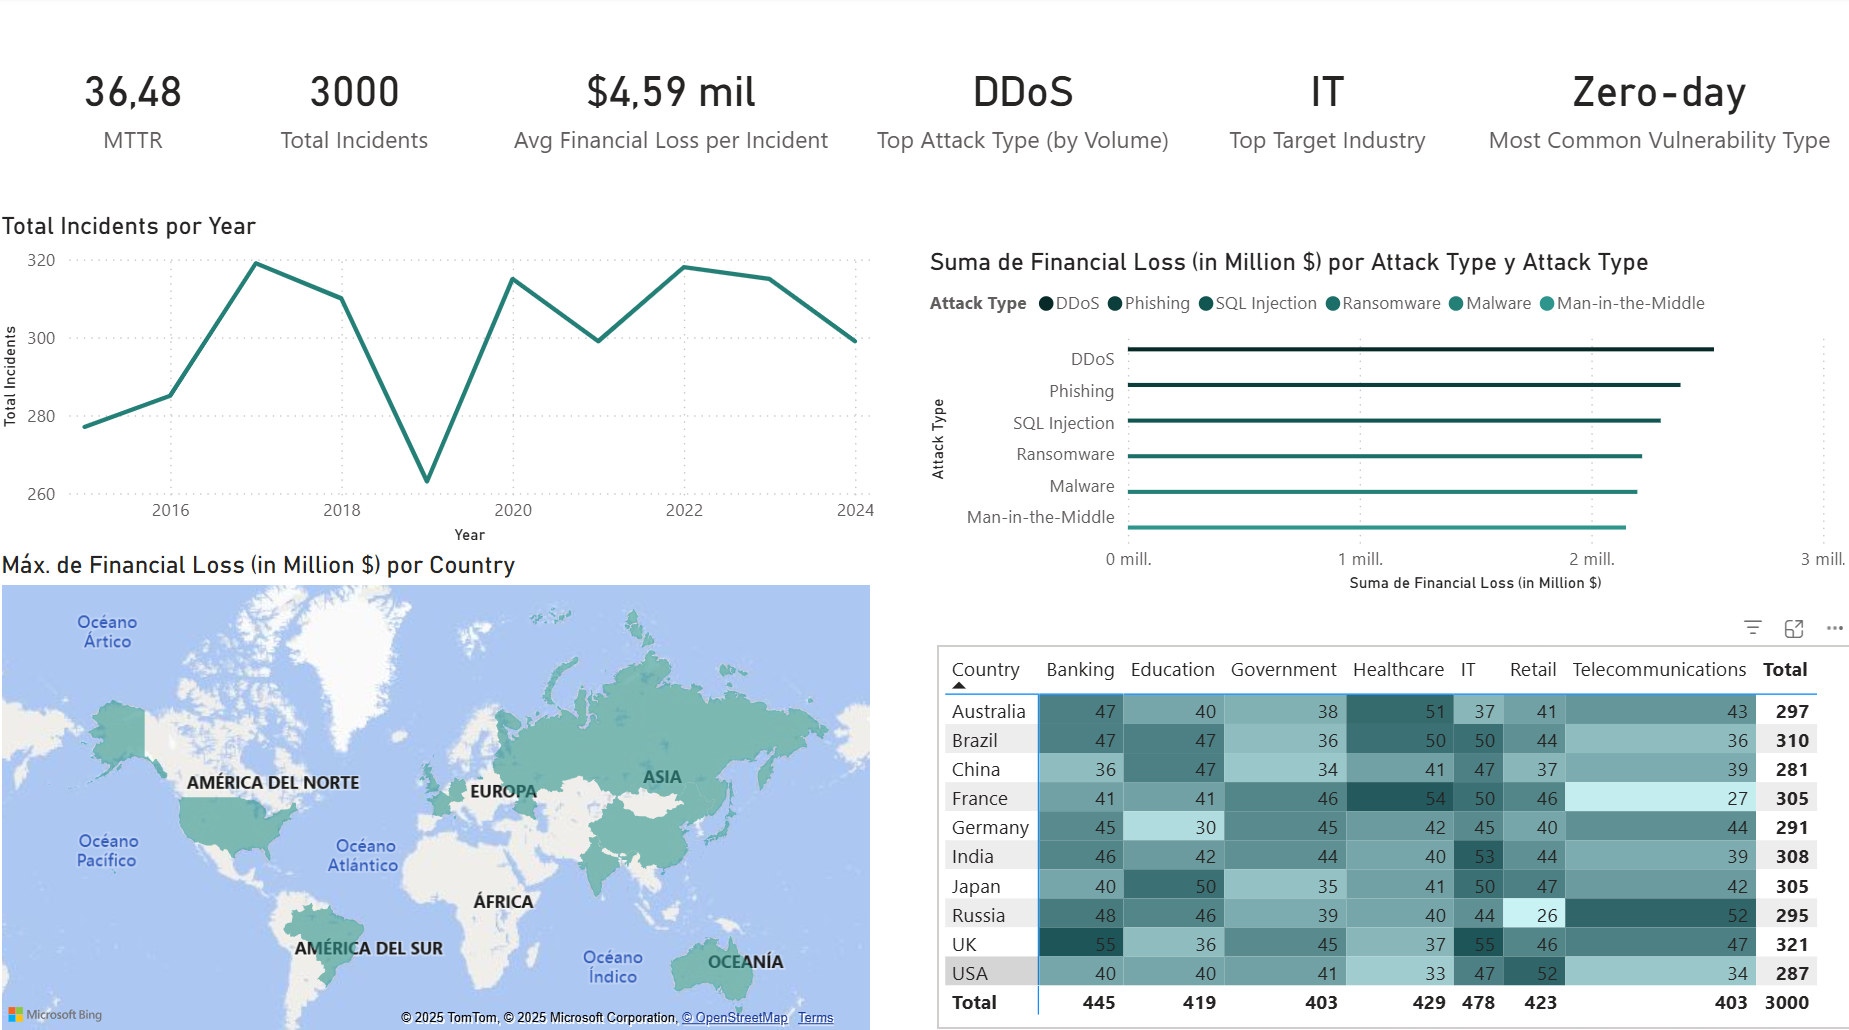

Layout of this report page (visuals, bound fields, positions):
{"tool":"powerbi","page":{"name":"KPI + Threat Landscape","canvas":[1280,720],"ordinal":0},"visuals":[{"type":"card","fields":{"Values":["Medidas.MTTR"]},"box":[0,0,190.5,147.5],"z":0},{"type":"card","fields":{"Values":["Medidas.Total Incidents"]},"box":[151,0,194,147.5],"z":1000},{"type":"card","fields":{"Values":["Medidas.Avg Financial Loss per Incident"]},"box":[345,0,241.6,147.5],"z":2000},{"type":"card","fields":{"Values":["Medidas.Top Attack Type (by Volume)"]},"box":[586.6,0,242.8,147.5],"z":3000},{"type":"card","fields":{"Values":["Medidas.Top Target Industry"]},"box":[822.4,0,189.3,147.5],"z":4000},{"type":"card","fields":{"Values":["Medidas.Most Common Vulnerability Type"]},"box":[1011.7,0,268.3,147.5],"z":5000},{"type":"clusteredBarChart","fields":{"Category":["CyberAttacks.Attack Type"],"Series":["CyberAttacks.Attack Type"],"Y":["Sum(CyberAttacks.Financial Loss (in Million $))"]},"box":[639.2,172.8,640.4,241.7],"z":6000},{"type":"lineChart","fields":{"Y":["Medidas.Total Incidents"],"Category":["CyberAttacks.Year"]},"box":[0,147.4,610.2,233.2],"z":7000},{"type":"pivotTable","fields":{"Rows":["CyberAttacks.Country"],"Columns":["CyberAttacks.Target Industry"],"Values":["Medidas.Total Incidents"]},"box":[648.9,447.1,630.7,263.4],"z":8000},{"type":"filledMap","fields":{"Category":["CyberAttacks.Country"]},"box":[0,380.6,607.8,339.5],"z":9000}]}

Visuals, with their boxes in screenshot pixels (x1, y1, x2, y2), scaled from the page's 1280x720 canvas onto the 1849x1030 screenshot:
card - Medidas.MTTR: l=0, t=0, r=275, b=211
card - Medidas.Total Incidents: l=218, t=0, r=498, b=211
card - Medidas.Avg Financial Loss per Incident: l=498, t=0, r=847, b=211
card - Medidas.Top Attack Type (by Volume): l=847, t=0, r=1198, b=211
card - Medidas.Top Target Industry: l=1188, t=0, r=1461, b=211
card - Medidas.Most Common Vulnerability Type: l=1461, t=0, r=1848, b=211
clusteredBarChart - CyberAttacks.Attack Type x CyberAttacks.Attack Type: l=923, t=247, r=1848, b=593
lineChart - Medidas.Total Incidents x CyberAttacks.Year: l=0, t=211, r=881, b=544
pivotTable - CyberAttacks.Country x CyberAttacks.Target Industry: l=937, t=640, r=1848, b=1016
filledMap - CyberAttacks.Country: l=0, t=544, r=878, b=1029
